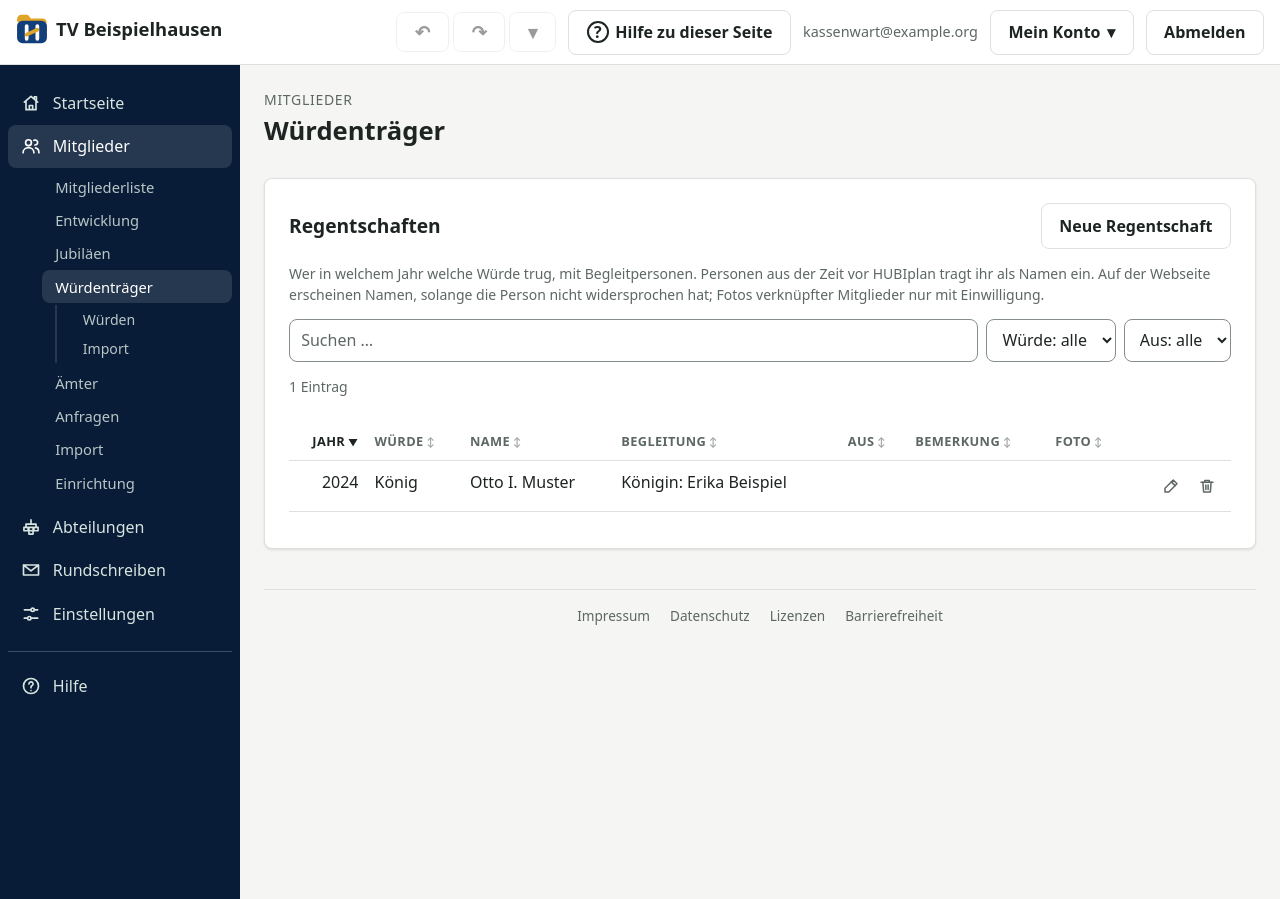
Test case: Chronik › speichert eine bestehende Regentschaft automatisch
The image size is (1280, 899).
Click the button named "Otto Muster 2024 bearbeiten" at (1171, 486), box [1155,470,1187,502]
(page scrolled)
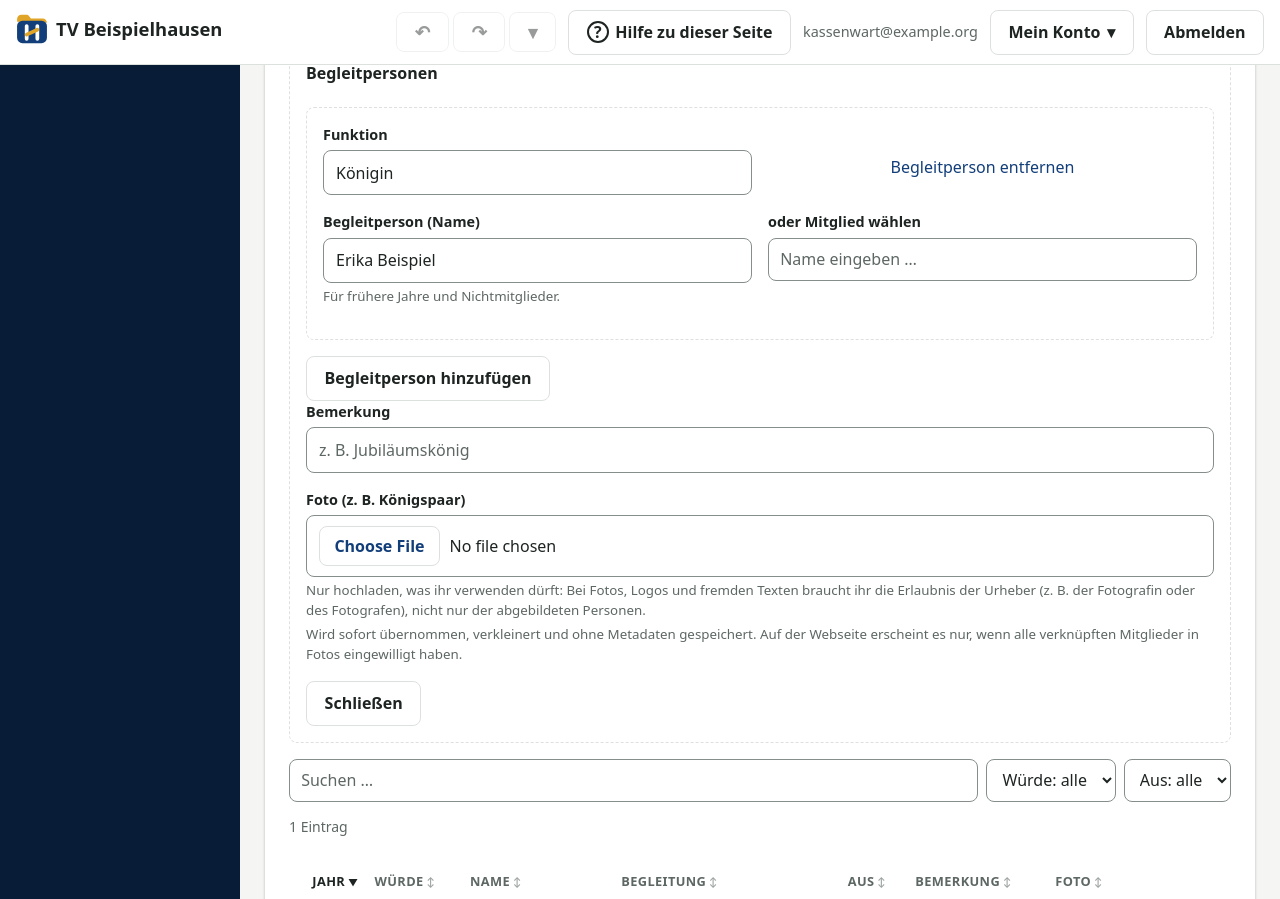
Type "Jubiläumskönig" into the field labelled "Bemerkung" at (760, 450), box [306,427,1214,473]
(page scrolled)
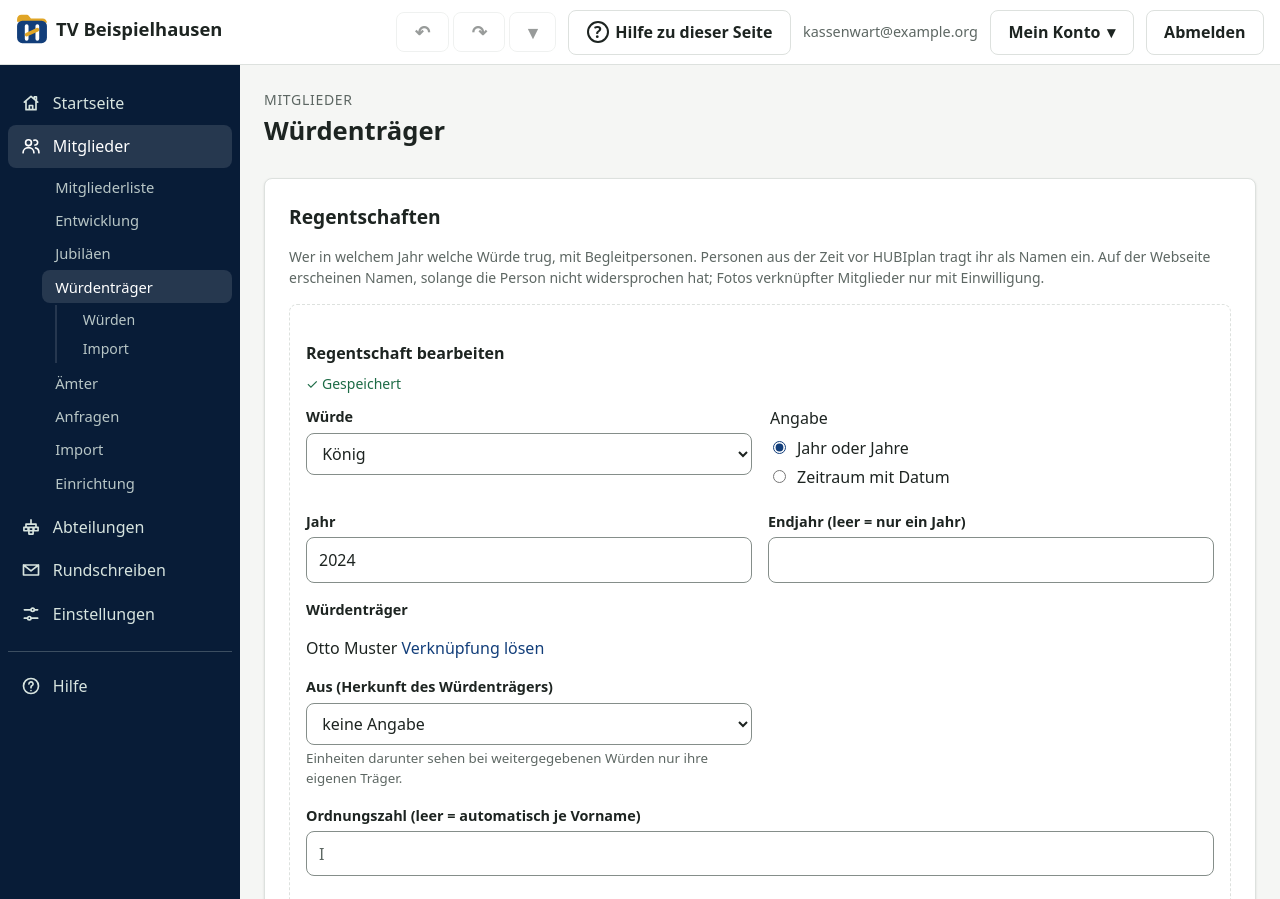
Expected: the text "✓ Gespeichert" is shown, [306,374,401,393]
